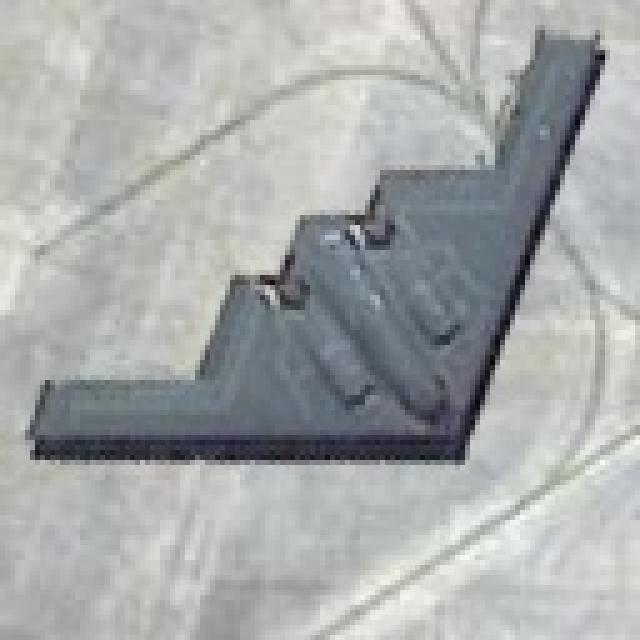B-2_TopDown: (20, 20, 605, 465)
